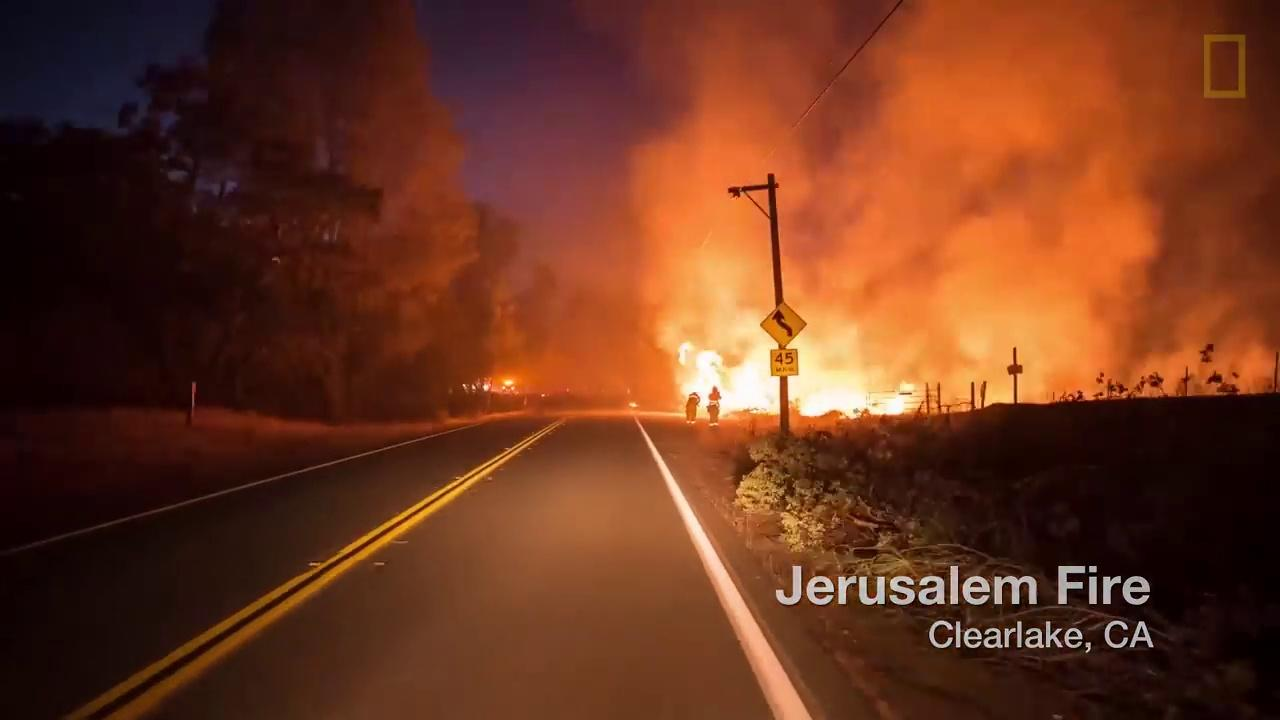Fire: (671, 336, 910, 421), (466, 376, 518, 395)
